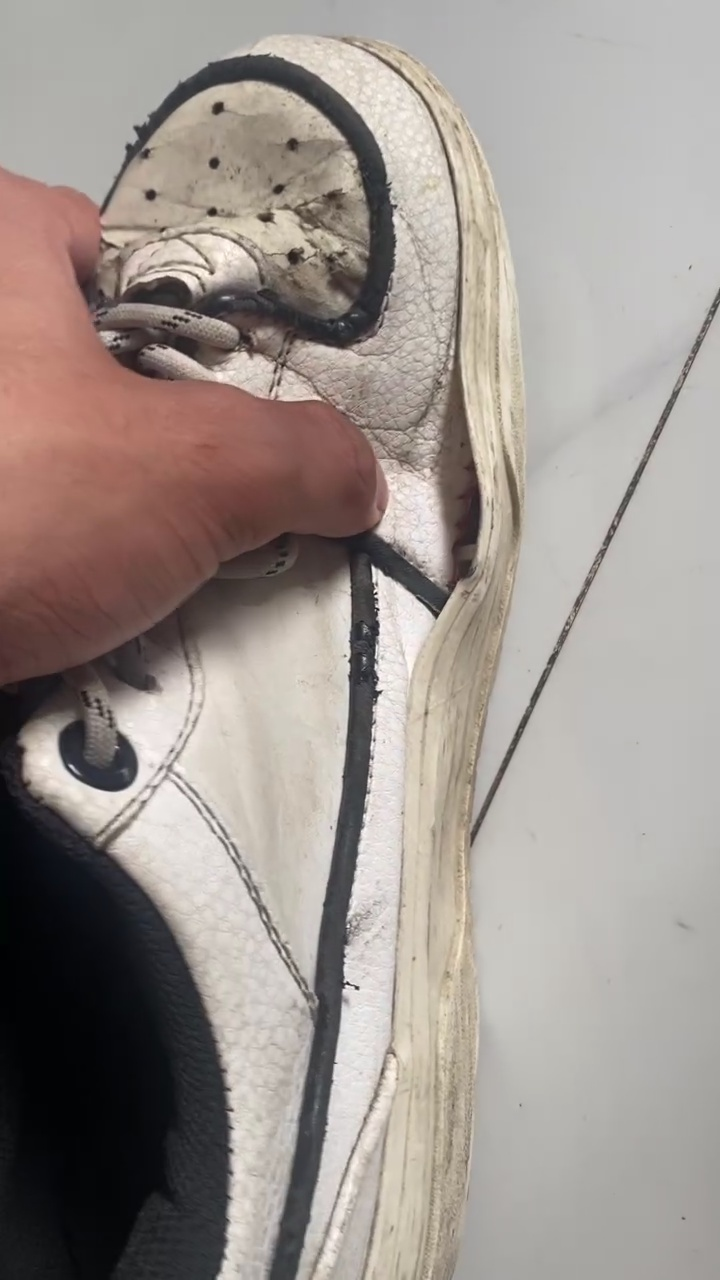bonding: (382, 395, 487, 640)
